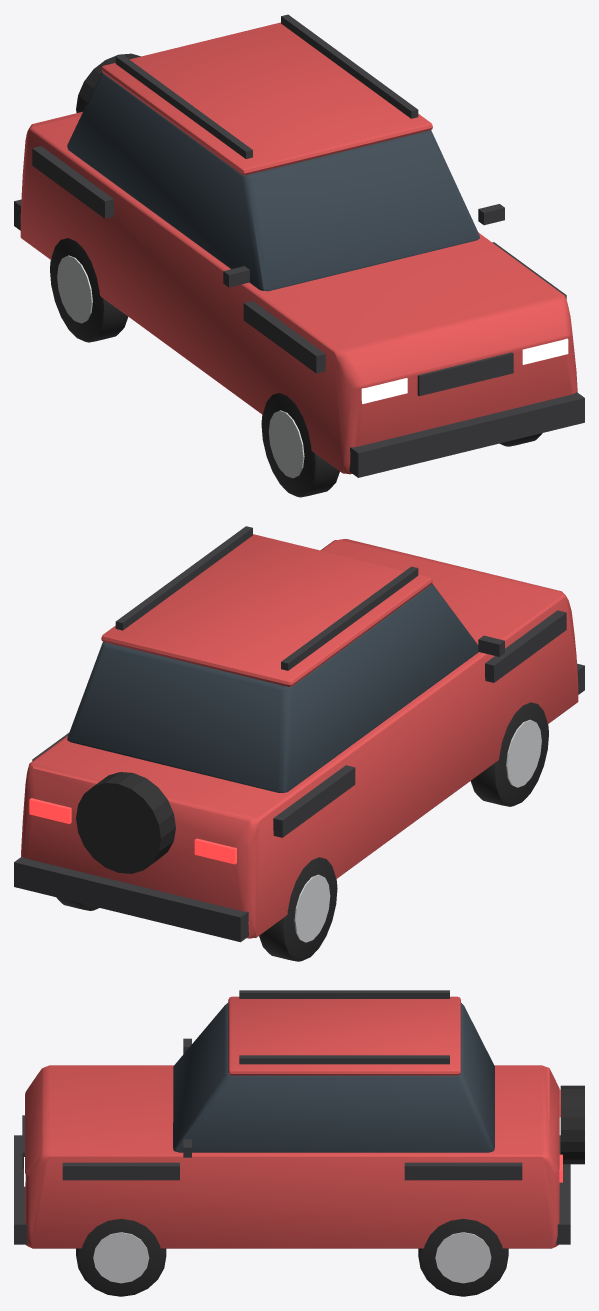
Rendered from car_suv.glb.
3 renders of one model, top to bottom at view 1: azimuth 30°, elevation 25°; view 2: azimuth 150°, elevation 25°; view 3: azimuth 270°, elevation 25°, orthographic. The views are drawn at different scales.
Parts seen in each view (by area): view 1: body, wheel_fr, wheel_rr; view 2: body, wheel_rr, wheel_fr; view 3: body, wheel_rl, wheel_fl.
Boxes of the visible parts, x1,y1,x2,y2 form: body: (14, 14, 584, 477); wheel_fr: (261, 393, 339, 497); wheel_rr: (50, 238, 127, 342); body: (14, 526, 584, 942); wheel_rr: (259, 857, 337, 961); wheel_fr: (470, 702, 548, 806); body: (14, 990, 584, 1248); wheel_rl: (418, 1218, 508, 1296); wheel_fl: (76, 1218, 166, 1296).
Bounding box in the file's own units: 2.34 × 2.28 × 5.18.
